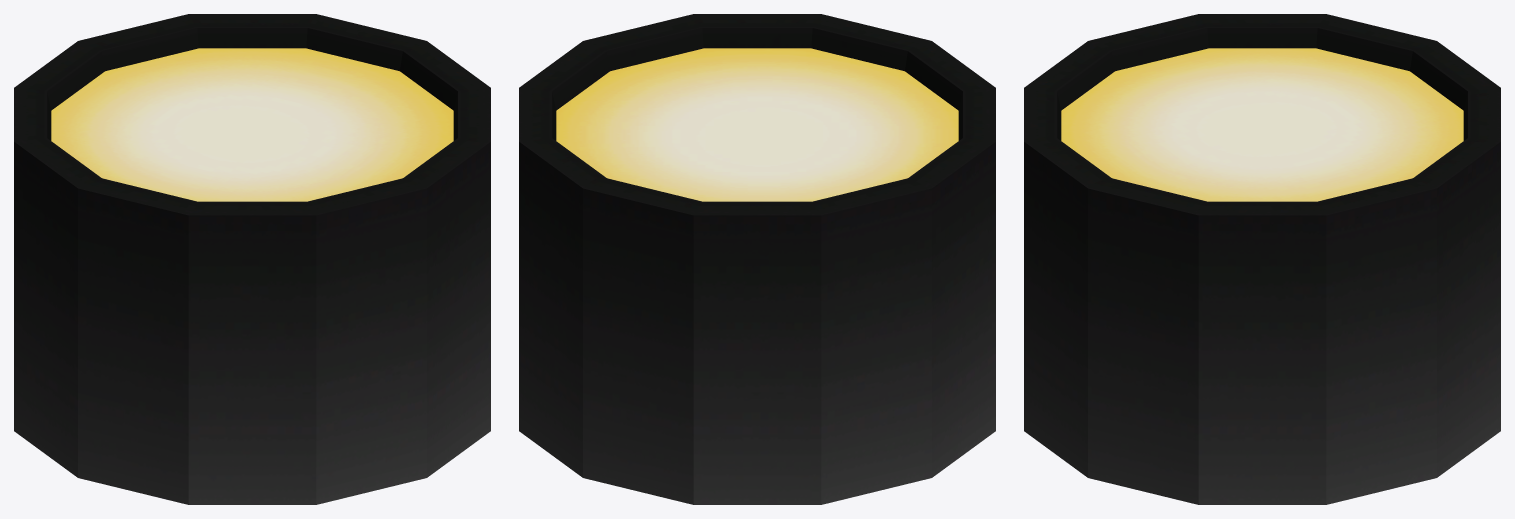
Rendered from SM_ENV_TCHEXA_Spotlight_A.fbx.
The picture shows the model from 3 angles, left to right: view 1: azimuth 30°, elevation 25°; view 2: azimuth 150°, elevation 25°; view 3: azimuth 270°, elevation 25°; orthographic projection.
Visible parts, largest first — view 1: SM_ENV_TCHEXA_Spotlight_A.mo; view 2: SM_ENV_TCHEXA_Spotlight_A.mo; view 3: SM_ENV_TCHEXA_Spotlight_A.mo.
Boxes of the visible parts, x1,y1,x2,y2 form: SM_ENV_TCHEXA_Spotlight_A.mo: [14, 14, 490, 504]; SM_ENV_TCHEXA_Spotlight_A.mo: [519, 14, 995, 504]; SM_ENV_TCHEXA_Spotlight_A.mo: [1024, 14, 1500, 504].
Bounding box in the file's own units: 37.77 × 25.32 × 37.77.
